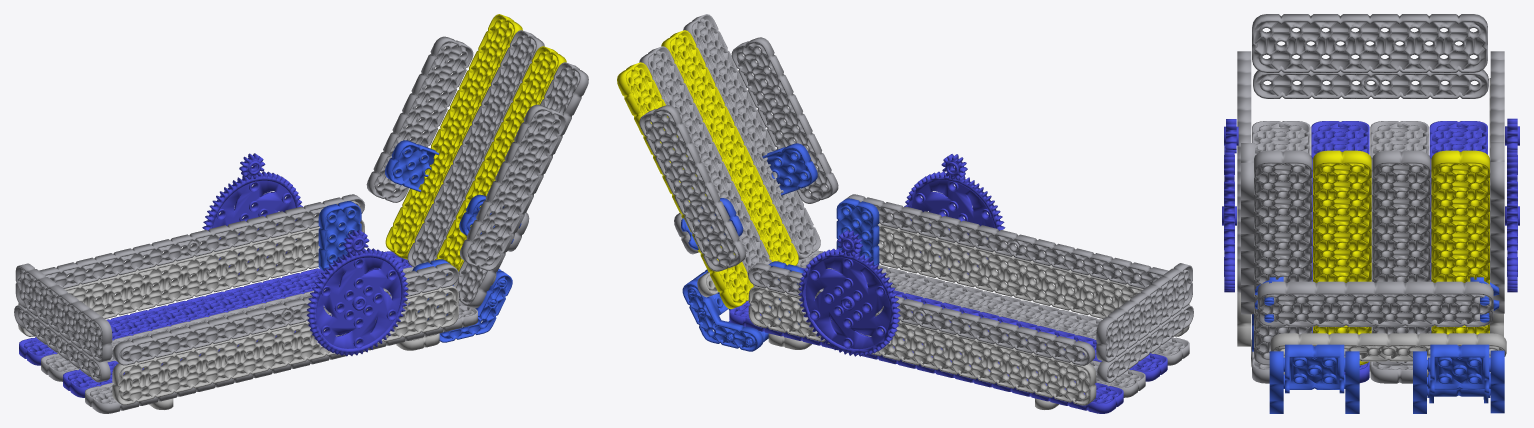
Rendered from Tray V2.glb.
3 renders of one model, left to right at view 1: azimuth 30°, elevation 25°; view 2: azimuth 150°, elevation 25°; view 3: azimuth 270°, elevation 25°, orthographic. The views are drawn at different scales.
Visible parts, largest first — view 1: 00031_228-2500-029.dat, 00026_228-2500-029.dat, 00032_228-2500-215.dat, 00007_228-2500-023.dat, 00027_228-2500-015.dat, 00002_228-2500-026.dat, 00001_228-2500-026.dat, 00028_228-2500-015.dat, 00006_228-2500-023.dat, 00017_228-2500-030.dat, 00003_228-2500-026.dat, 00029_228-2500-023.dat (+10 smaller); view 2: 00026_228-2500-029.dat, 00031_228-2500-029.dat, 00033_228-2500-215.dat, 00028_228-2500-015.dat, 00006_228-2500-023.dat, 00003_228-2500-026.dat, 00004_228-2500-026.dat, 00027_228-2500-015.dat, 00007_228-2500-023.dat, 00023_228-2500-030.dat, 00002_228-2500-026.dat, 00029_228-2500-023.dat (+10 smaller); view 3: 00029_228-2500-023.dat, 00005_228-2500-023.dat, 00004_228-2500-026.dat, 00002_228-2500-026.dat, 00003_228-2500-026.dat, 00001_228-2500-026.dat, 00030_228-2500-007-v2.dat, 00010_228-2500-007-v2.dat, 00012_228-2500-220-v2.dat, 00021_228-2500-030.dat, 00011_228-2500-220-v2.dat, 00006_228-2500-023.dat (+19 smaller).
Part boxes in pixels (box(x1,y1,x2,y2)): 00031_228-2500-029.dat: box(112, 285, 458, 405); 00026_228-2500-029.dat: box(18, 220, 364, 336); 00032_228-2500-215.dat: box(306, 248, 408, 355); 00007_228-2500-023.dat: box(460, 104, 566, 270); 00027_228-2500-015.dat: box(39, 194, 364, 288); 00002_228-2500-026.dat: box(407, 30, 544, 267); 00001_228-2500-026.dat: box(385, 14, 522, 259); 00028_228-2500-015.dat: box(112, 263, 458, 365); 00006_228-2500-023.dat: box(366, 36, 473, 202); 00017_228-2500-030.dat: box(19, 251, 412, 365); 00003_228-2500-026.dat: box(435, 46, 566, 271); 00029_228-2500-023.dat: box(15, 263, 112, 362); 00026_228-2500-029.dat: box(748, 286, 1096, 405); 00031_228-2500-029.dat: box(847, 221, 1189, 336); 00033_228-2500-215.dat: box(798, 248, 900, 356); 00028_228-2500-015.dat: box(845, 194, 1168, 288); 00006_228-2500-023.dat: box(639, 105, 746, 271); 00003_228-2500-026.dat: box(661, 30, 798, 265); 00004_228-2500-026.dat: box(683, 14, 820, 260); 00027_228-2500-015.dat: box(748, 263, 1095, 365); 00007_228-2500-023.dat: box(731, 37, 838, 203); 00023_228-2500-030.dat: box(796, 250, 1189, 365); 00002_228-2500-026.dat: box(639, 46, 771, 286); 00029_228-2500-023.dat: box(1096, 263, 1192, 362); 00029_228-2500-023.dat: box(1252, 14, 1487, 72); 00005_228-2500-023.dat: box(1257, 281, 1493, 326); 00004_228-2500-026.dat: box(1254, 150, 1312, 365); 00002_228-2500-026.dat: box(1372, 150, 1430, 365); 00003_228-2500-026.dat: box(1313, 150, 1371, 365); 00001_228-2500-026.dat: box(1431, 150, 1489, 334); 00030_228-2500-007-v2.dat: box(1253, 70, 1488, 98); 00010_228-2500-007-v2.dat: box(1270, 333, 1506, 361); 00012_228-2500-220-v2.dat: box(1427, 344, 1490, 393); 00021_228-2500-030.dat: box(1370, 121, 1428, 383); 00011_228-2500-220-v2.dat: box(1283, 344, 1345, 393); 00006_228-2500-023.dat: box(1490, 142, 1504, 313).
Bounding box in the file's own units: 0.8369 × 0.3953 × 0.3261.
